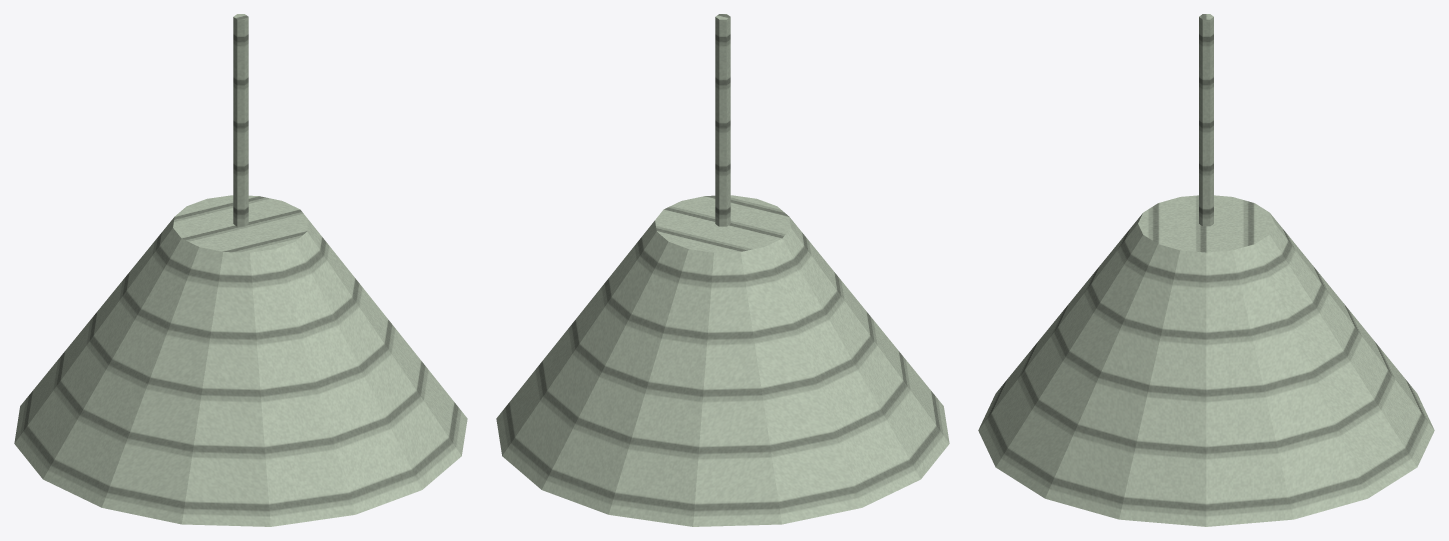
File: decorative_grand_chandelier.glb
The picture shows the model from 3 angles, left to right: view 1: azimuth 30°, elevation 25°; view 2: azimuth 150°, elevation 25°; view 3: azimuth 270°, elevation 25°; orthographic projection.
Parts seen in each view (by area): view 1: decorative_grand_chandelier-col; view 2: decorative_grand_chandelier-col; view 3: decorative_grand_chandelier-col.
Part boxes in pixels (x1,y1,x2,y2): decorative_grand_chandelier-col: [14, 14, 467, 526]; decorative_grand_chandelier-col: [496, 14, 949, 526]; decorative_grand_chandelier-col: [978, 14, 1434, 526].
Size of the model in its own units: 1.2 by 1.2 by 1.2.
1 material, 1 textured.
